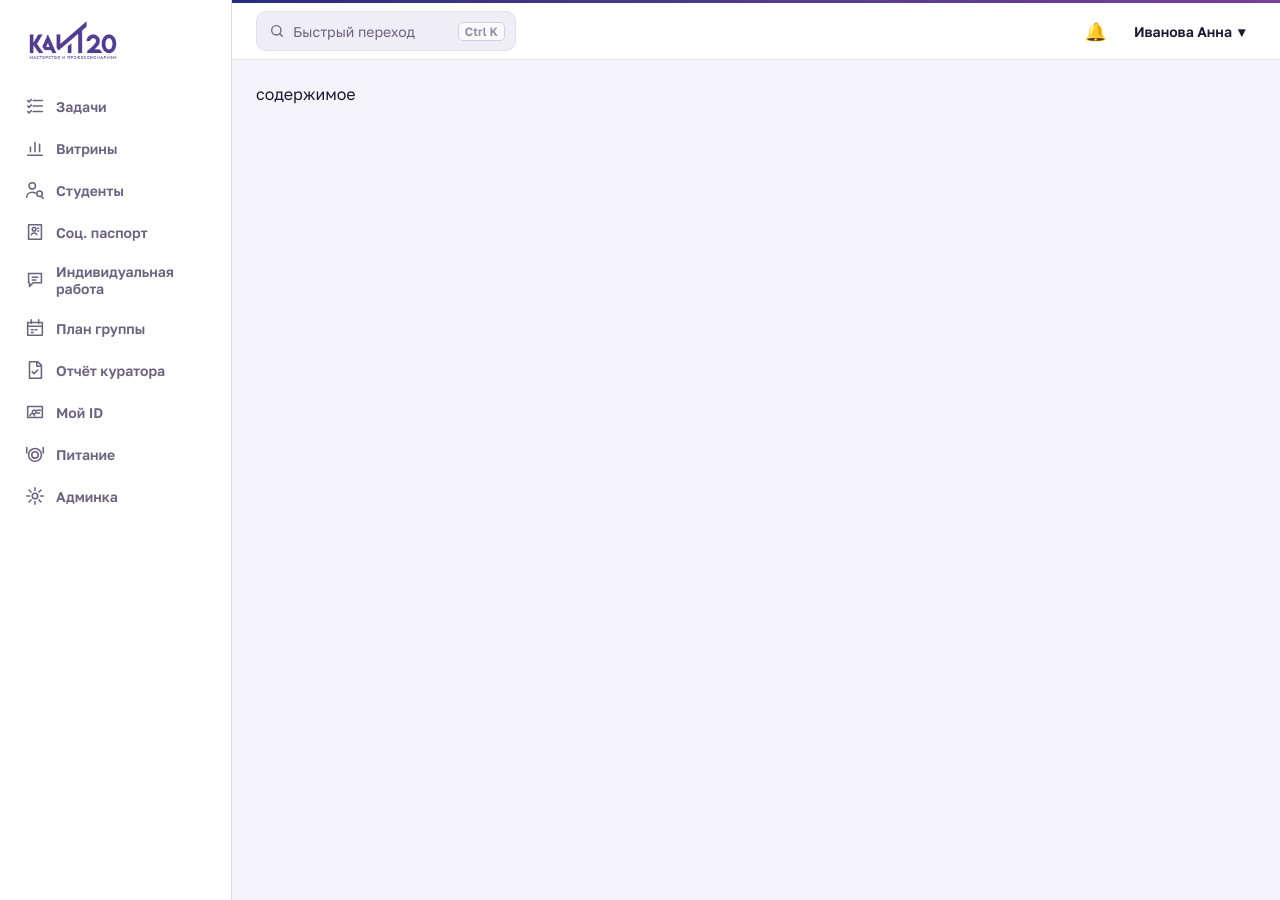
Test: Layout — меню по ролям › имя пользователя — кнопка меню, а «Сменить пароль» и «Выйти» внутри него
The width and height of the screenshot is (1280, 900).
Expected: the menu item "Выйти" is not shown
Click the button "Иванова Анна ▾": point(1189, 31) [1123,16,1256,46]
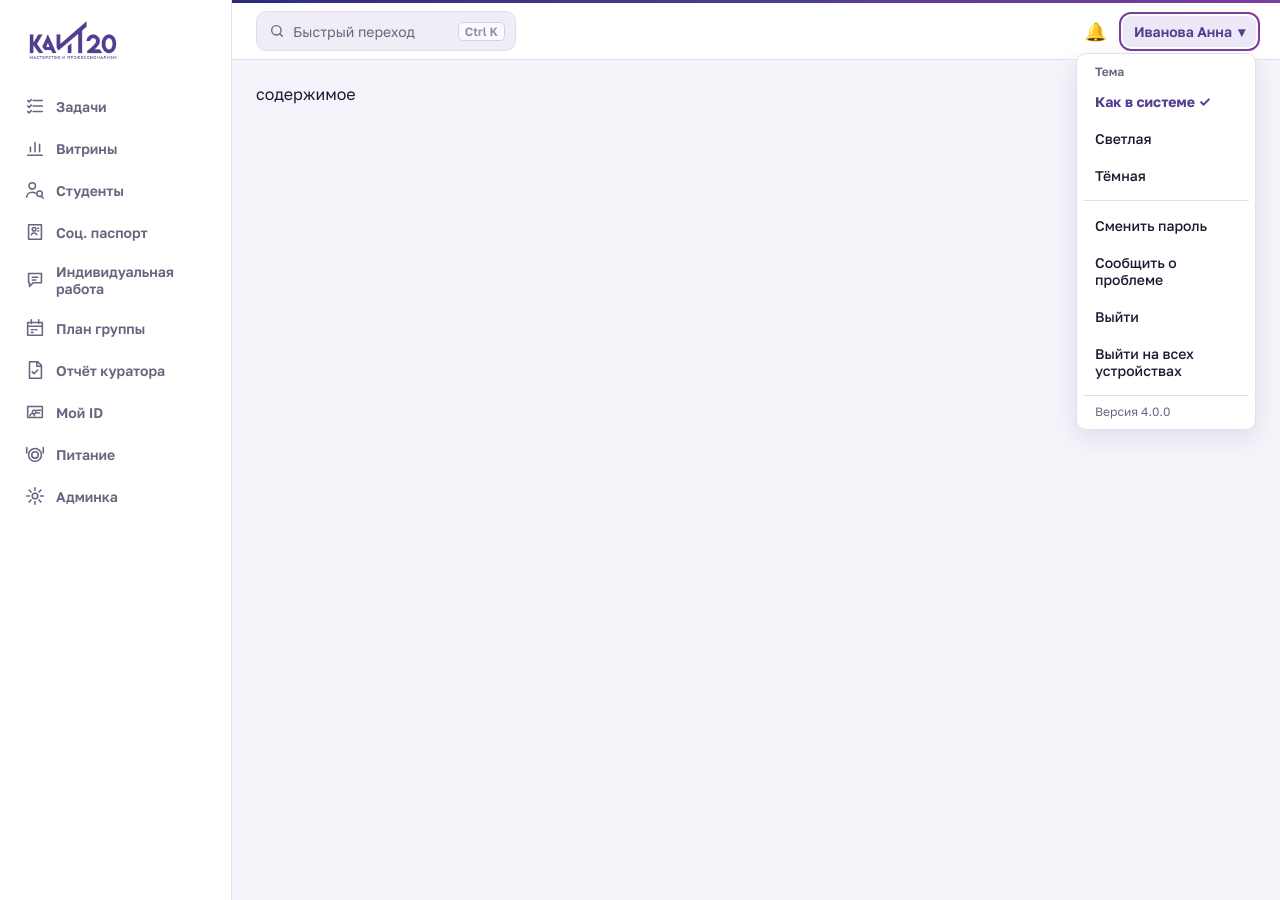
Expected: the text "содержимое" is shown, [256,84,356,104]
Expected: the button "Иванова Анна ▾" is expanded, [1123,16,1256,46]
Expected: the menu item "Выйти" is shown, [1083,298,1249,334]
